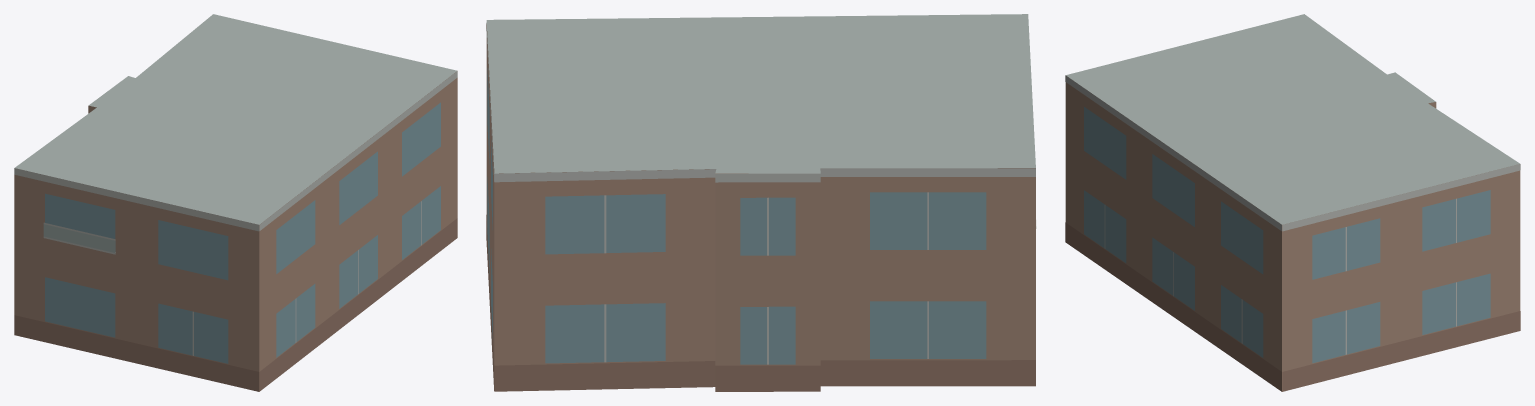
File: survey-upis-33017534.glb
The picture shows the model from 3 angles, left to right: view 1: azimuth 30°, elevation 25°; view 2: azimuth 150°, elevation 25°; view 3: azimuth 270°, elevation 25°; orthographic projection. The views are drawn at different scales.
Parts seen in each view (by area): view 1: survey-upis-33017534.tmp; view 2: survey-upis-33017534.tmp; view 3: survey-upis-33017534.tmp.
Part boxes in pixels (<box>): survey-upis-33017534.tmp: <box>14,14,457,391</box>; survey-upis-33017534.tmp: <box>486,14,1036,391</box>; survey-upis-33017534.tmp: <box>1065,14,1520,391</box>.
Bounding box in the file's own units: 16.52 × 6.1 × 15.06.
